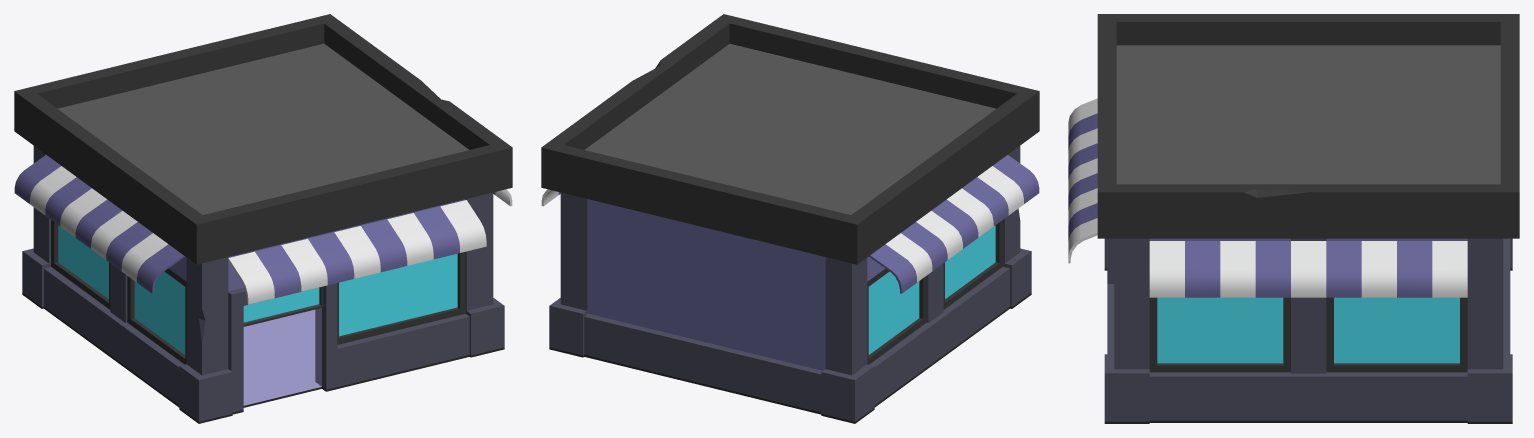
Rendered from SM_Buildings_Commercial_01.fbx.
3 views of the same model, side by side, from view 1: azimuth 30°, elevation 25°; view 2: azimuth 150°, elevation 25°; view 3: azimuth 270°, elevation 25° (orthographic). The views are drawn at different scales.
Parts seen in each view (by area): view 1: SM_Buildings_Commercial_01; view 2: SM_Buildings_Commercial_01; view 3: SM_Buildings_Commercial_01.
Part boxes in pixels (x1=…): SM_Buildings_Commercial_01: x1=14, y1=14, x2=512, y2=423; SM_Buildings_Commercial_01: x1=541, y1=14, x2=1039, y2=423; SM_Buildings_Commercial_01: x1=1068, y1=14, x2=1519, y2=423.
Size of the model in its own units: 9.4 by 5.06 by 8.83.
